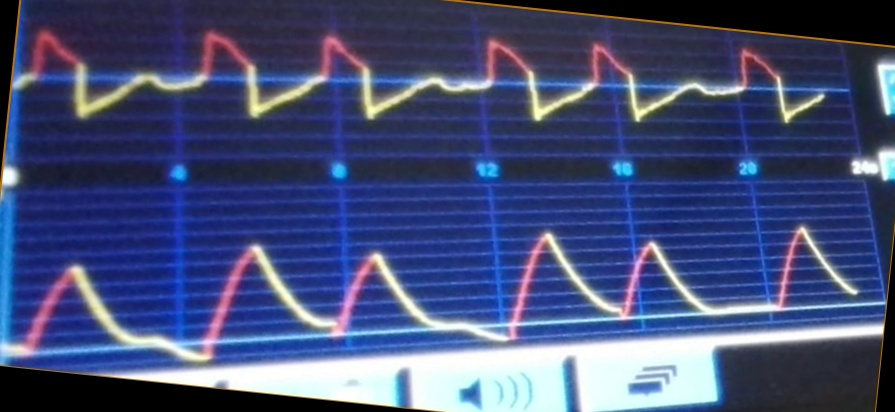Ineffective_effort Flow: (17, 21, 825, 139)
Ineffective_effort Volume: (12, 221, 859, 361)
